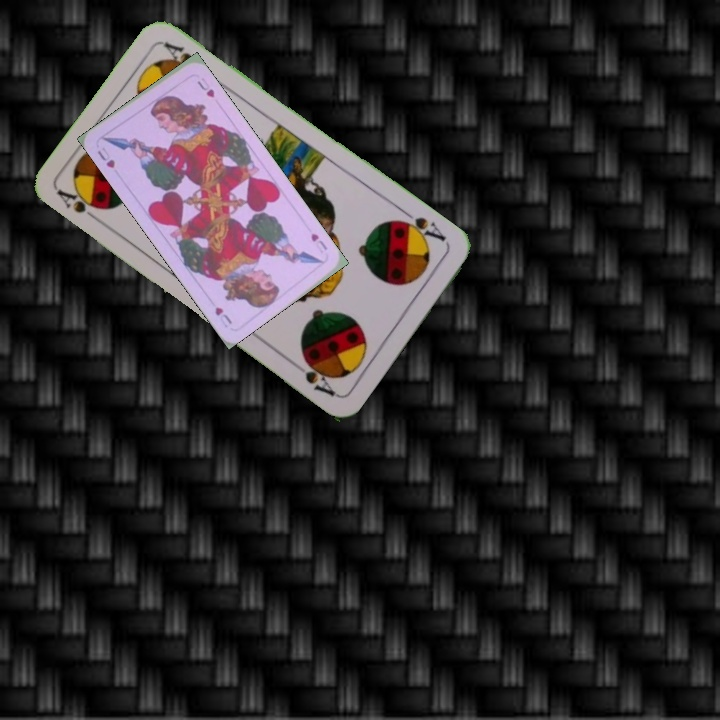HU: (93, 143, 118, 171), (307, 229, 330, 256)
SA: (392, 206, 449, 247), (53, 185, 106, 227)
